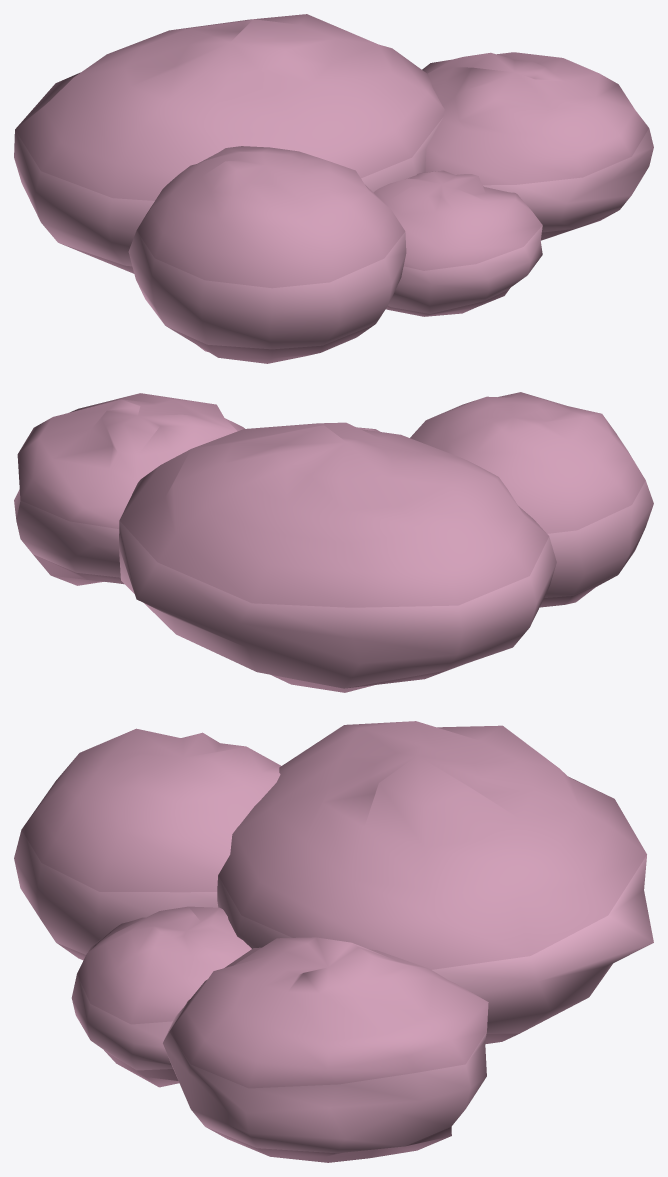
The model's file is bush-87_col.fbx.
The picture shows the model from 3 angles, top to bottom: view 1: azimuth 30°, elevation 25°; view 2: azimuth 150°, elevation 25°; view 3: azimuth 270°, elevation 25°; orthographic projection. The views are drawn at different scales.
Visible parts, largest first — view 1: bush-87.col; view 2: bush-87.col; view 3: bush-87.col.
Boxes of the visible parts, x1,y1,x2,y2 form: bush-87.col: [14, 14, 653, 363]; bush-87.col: [14, 392, 653, 692]; bush-87.col: [14, 721, 653, 1162].
Bounding box in the file's own units: 0.4241 × 0.1607 × 0.3695.
Materials: 1 (1 with a texture image).
